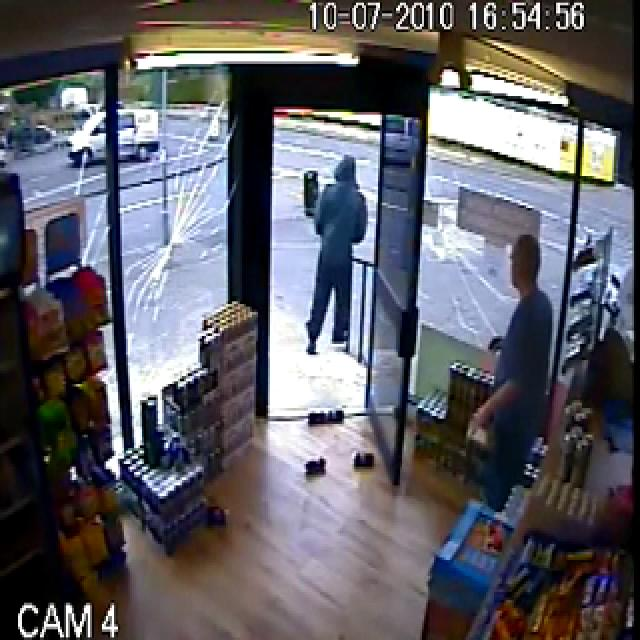vandalism: (267, 56, 454, 477)
